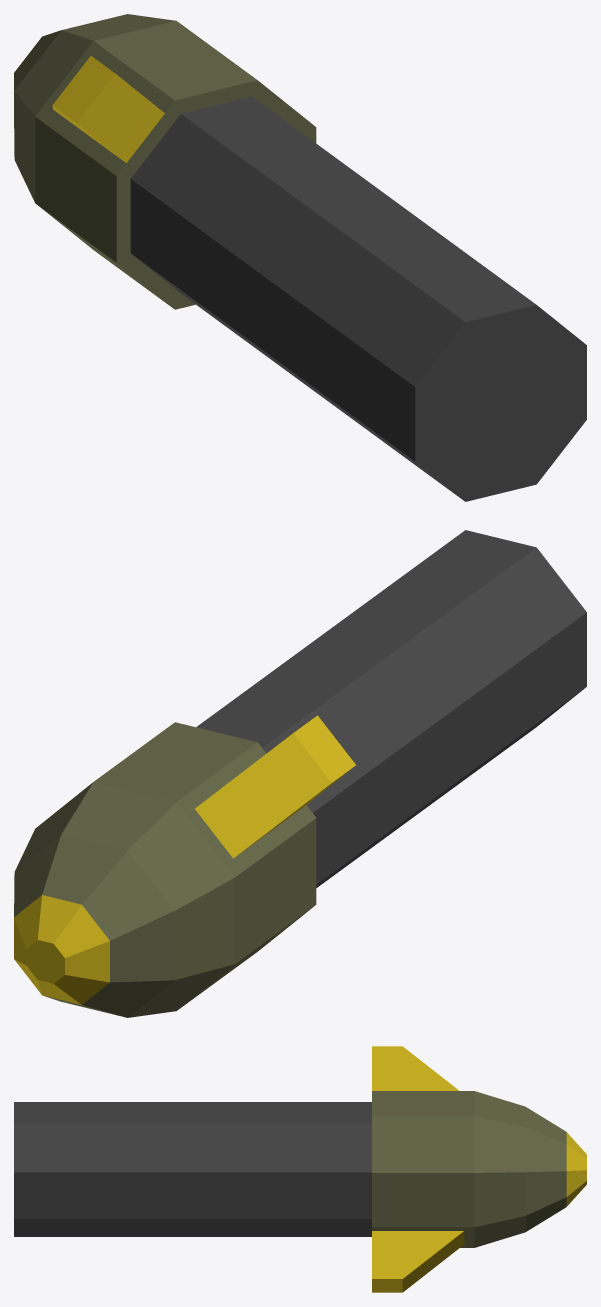
Rendered from missile.glb.
3 views of the same model, one above another, from view 1: azimuth 30°, elevation 25°; view 2: azimuth 150°, elevation 25°; view 3: azimuth 270°, elevation 25° (orthographic). The views are drawn at different scales.
Visible parts, largest first — view 1: mergedBlocks(Clone); view 2: mergedBlocks(Clone); view 3: mergedBlocks(Clone).
Part boxes in pixels (left/top/right/bottom): mergedBlocks(Clone): left=14, top=14, right=586, bottom=501; mergedBlocks(Clone): left=14, top=530, right=586, bottom=1017; mergedBlocks(Clone): left=14, top=1046, right=586, bottom=1292.
Size of the model in its own units: 0.6142 by 0.6142 by 1.73.
Materials: 1 (1 with a texture image).
